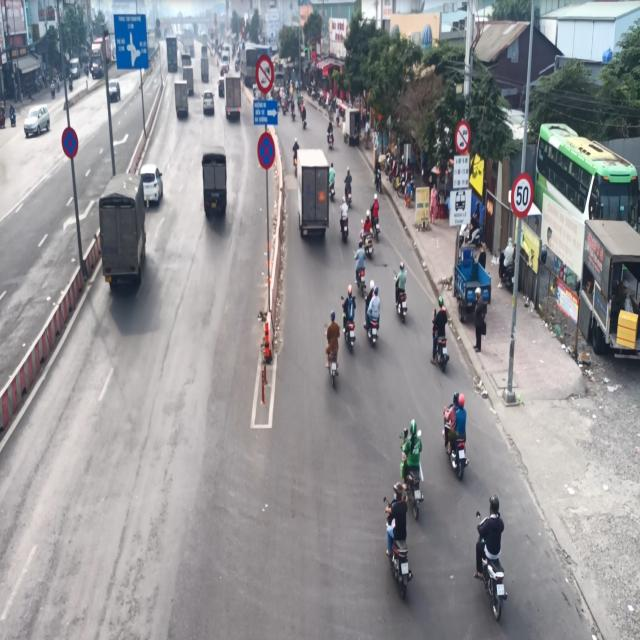motor: (381, 479, 417, 598), (476, 490, 506, 612), (440, 385, 472, 481), (428, 296, 454, 374), (322, 308, 342, 388), (362, 279, 383, 351), (390, 254, 410, 328), (343, 281, 360, 359)
truck: (98, 172, 146, 304), (294, 150, 334, 246), (198, 140, 227, 235)
